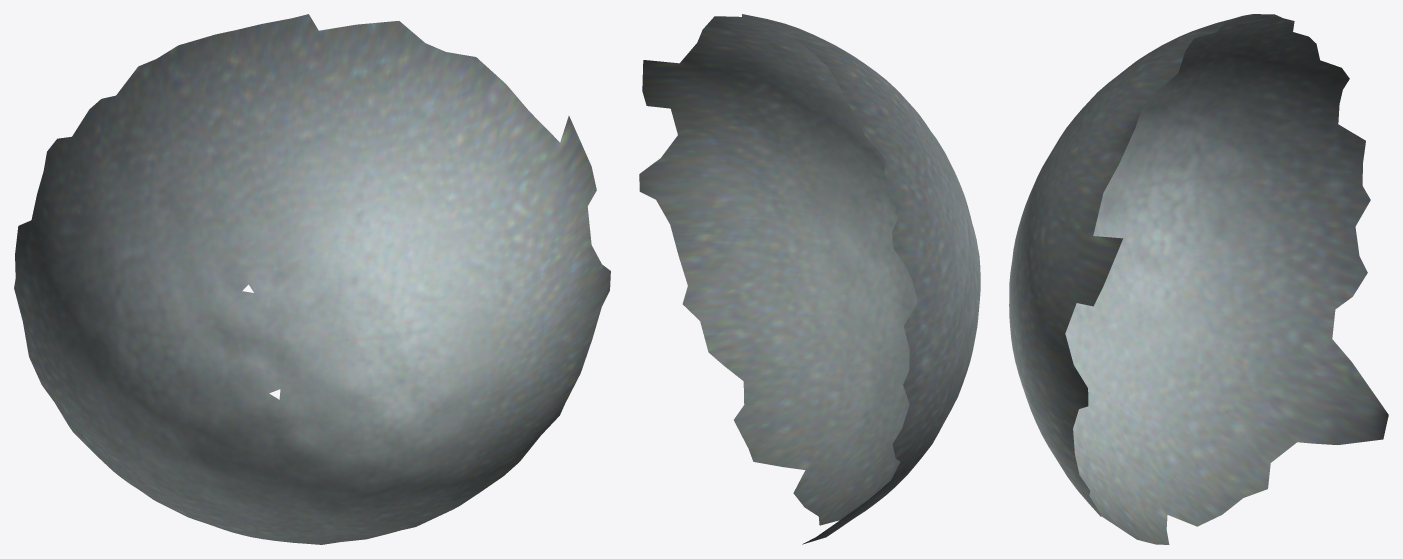
Rendered from Sphere_distfromfocus_0_focuc_100.000001.obj.
3 renders of one model, left to right at view 1: azimuth 30°, elevation 25°; view 2: azimuth 150°, elevation 25°; view 3: azimuth 270°, elevation 25°, orthographic. The views are drawn at different scales.
Bounding box in the file's own units: 66.56 × 73.25 × 51.09.
1 material, 1 textured.
